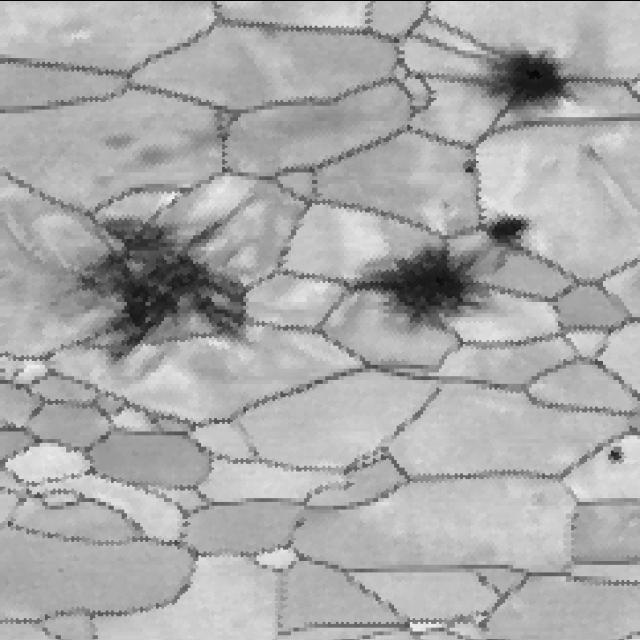good_void: (71, 198, 259, 376), (354, 229, 505, 330), (490, 41, 586, 127), (468, 203, 532, 254), (457, 157, 485, 177), (608, 446, 628, 462)
